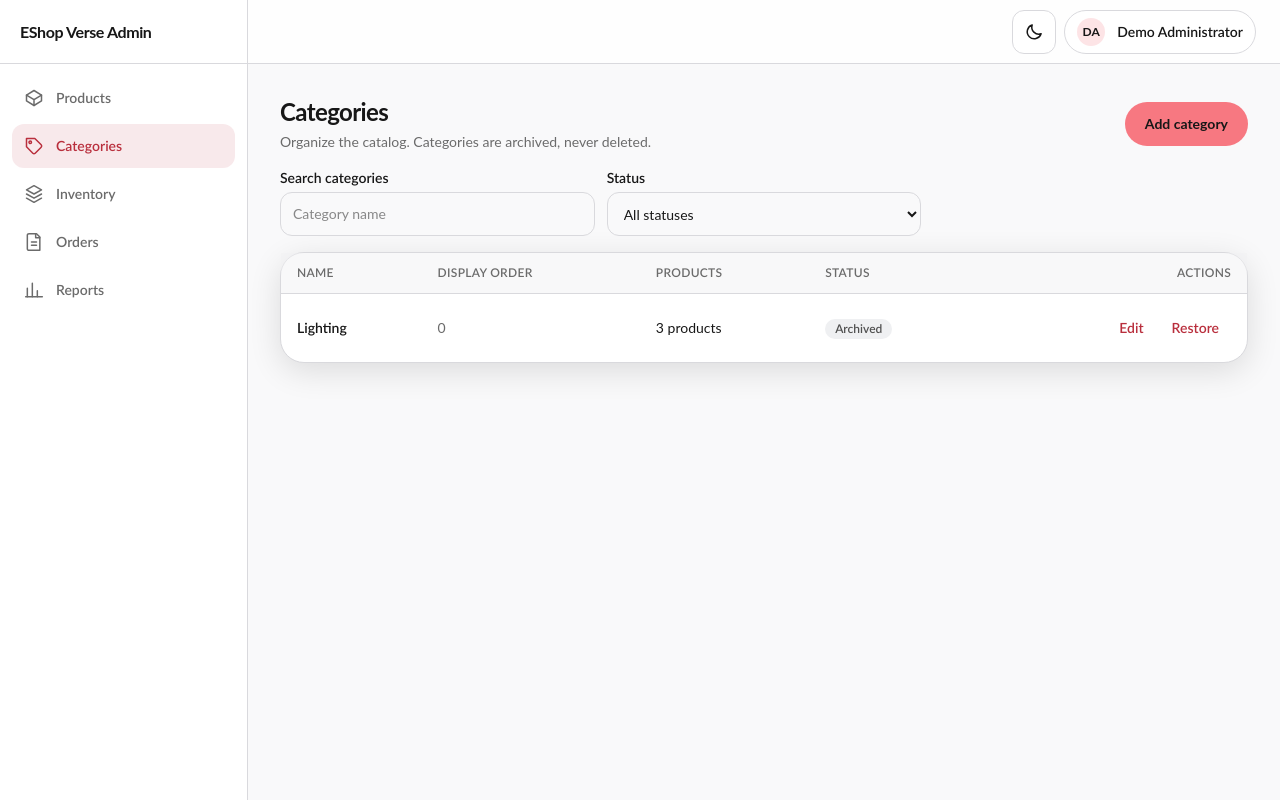
Test case: CategoriesPage (A-04) › restore_category_updates_status_and_reports_feedback
This screenshot has width=1280, height=800.
Click the button with aria-label "Restore Lighting" at (1195, 328), box [1160,306,1231,350]
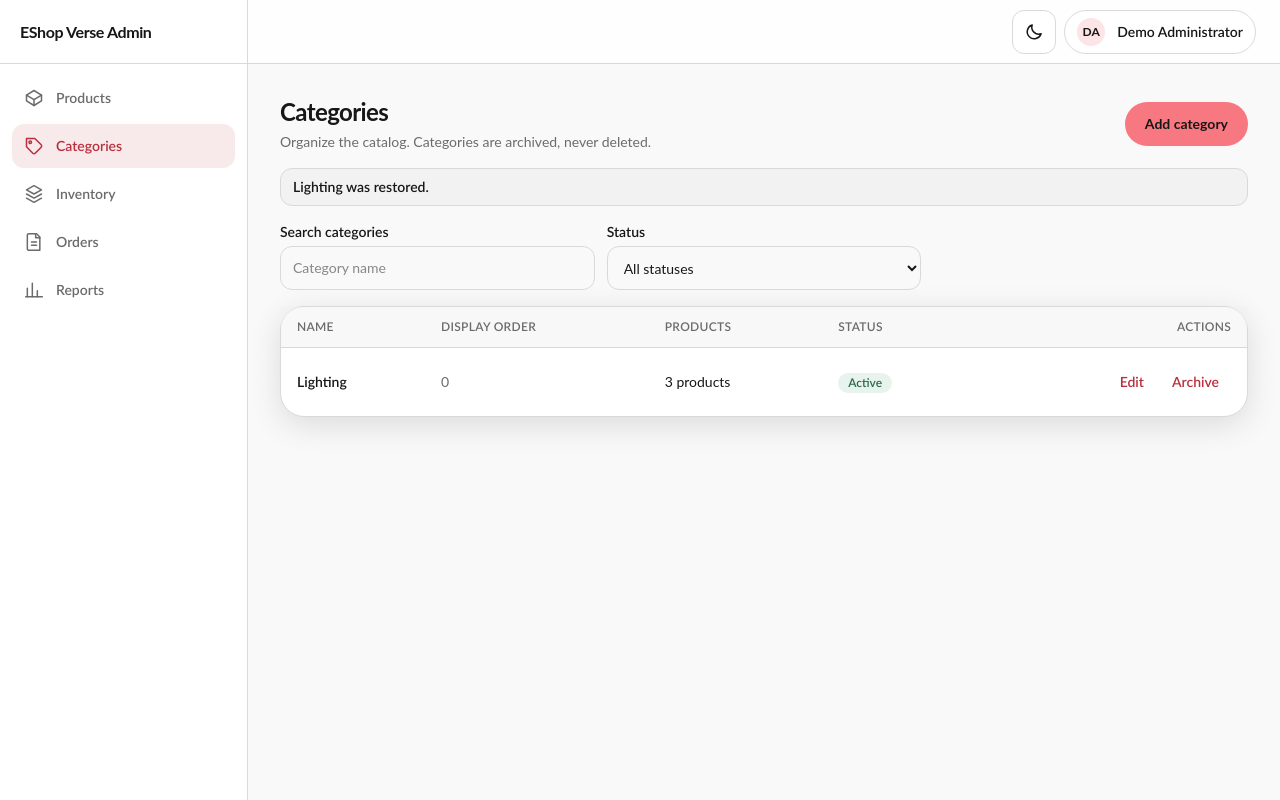
Expected: the message reads "Lighting was restored.", [293,178,429,195]
Expected: the text "Active" is shown, [838,372,892,392]
